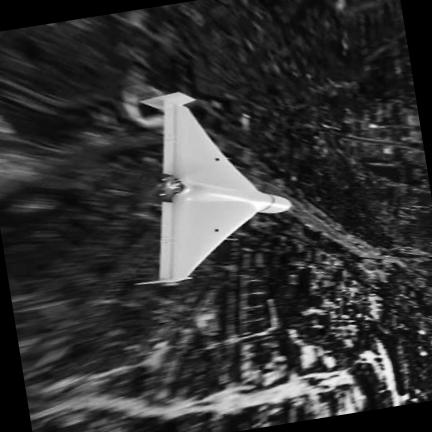Shahed: (135, 91, 290, 284)
